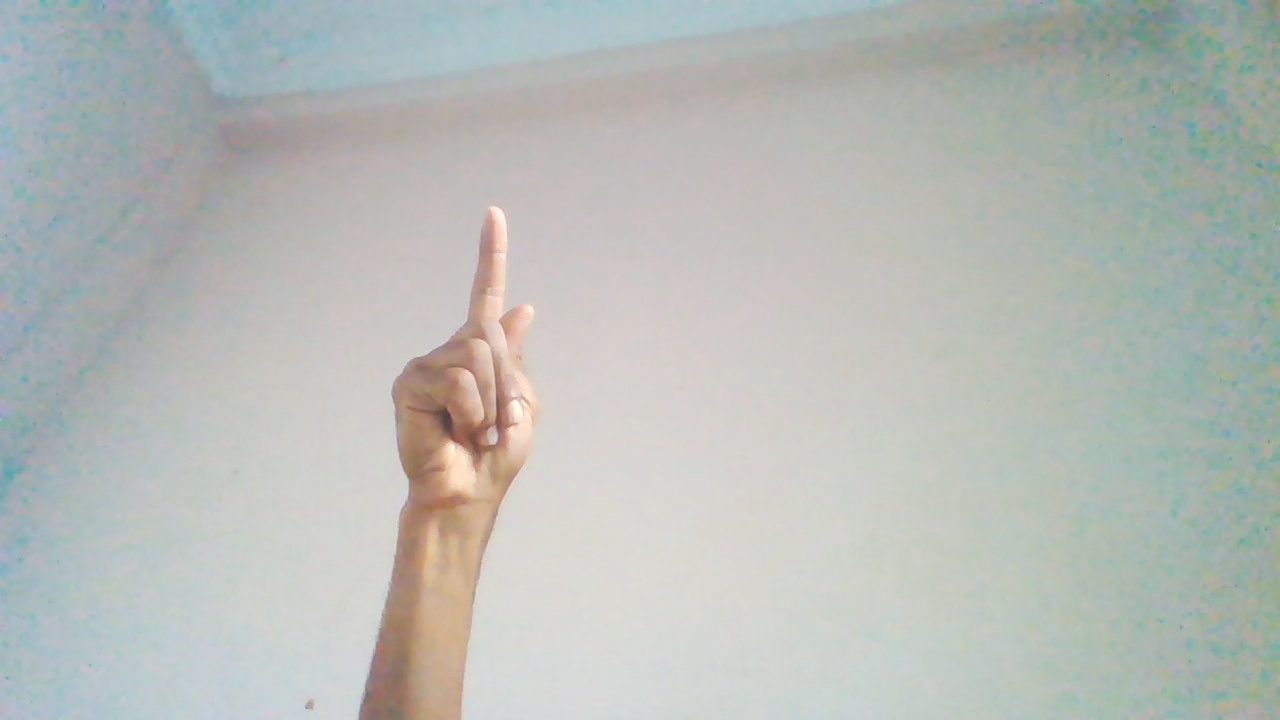ne: (380, 207, 546, 627)
